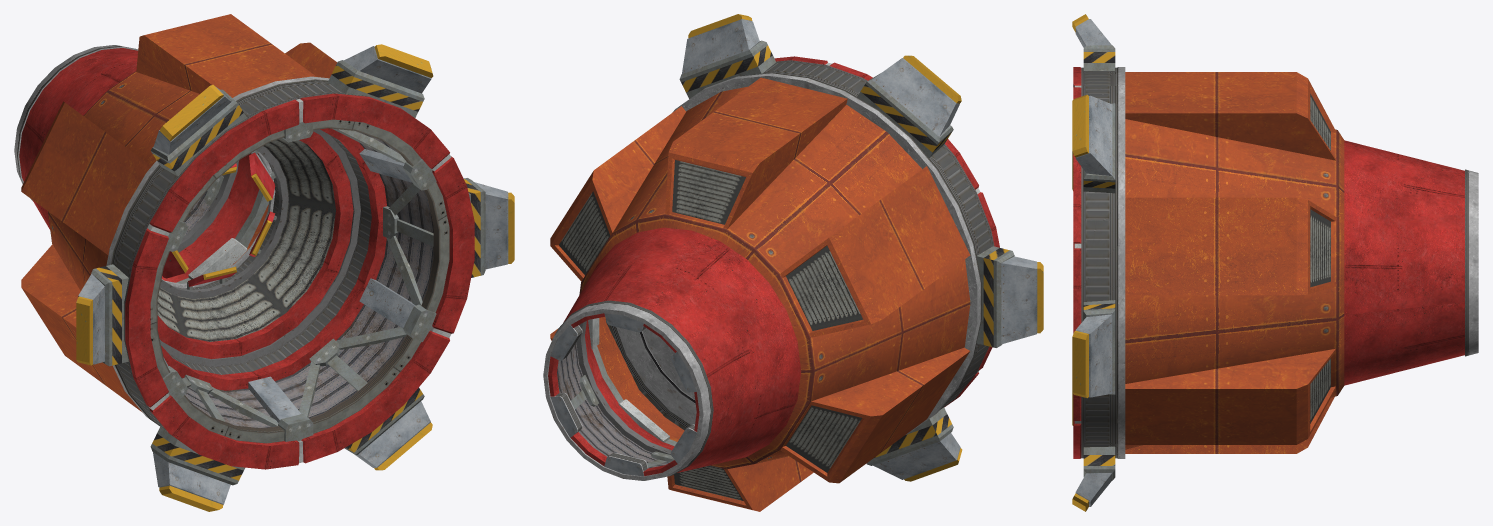
File: Ob_RailGateLarge_RC.fbx
3 views of the same model, side by side, from view 1: azimuth 30°, elevation 25°; view 2: azimuth 150°, elevation 25°; view 3: azimuth 270°, elevation 25° (orthographic). The views are drawn at different scales.
Parts seen in each view (by area): view 1: Ob_RailGateLarge_RC; view 2: Ob_RailGateLarge_RC; view 3: Ob_RailGateLarge_RC.
Part boxes in pixels (box(x1,y1,x2,y2)): Ob_RailGateLarge_RC: box(14, 14, 514, 511); Ob_RailGateLarge_RC: box(543, 14, 1043, 511); Ob_RailGateLarge_RC: box(1072, 14, 1478, 511).
Bounding box in the file's own units: 6054 × 5623 × 4971.
